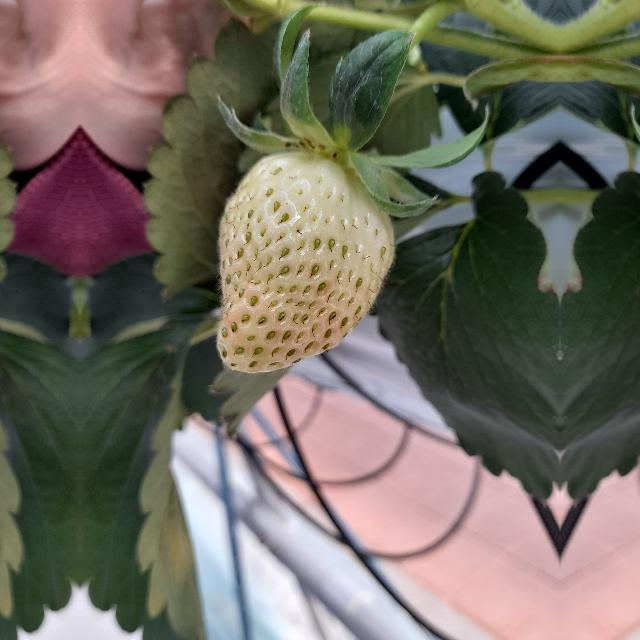Health_50: (216, 150, 396, 374)
